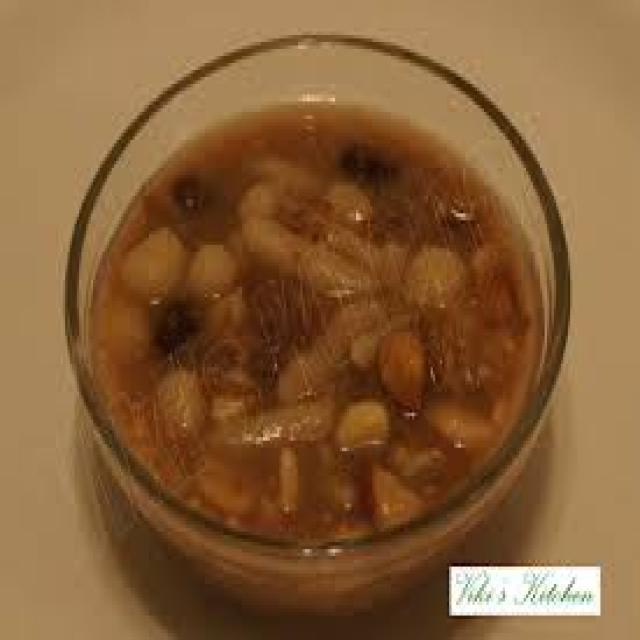paal kolukattai: (72, 93, 553, 539)
